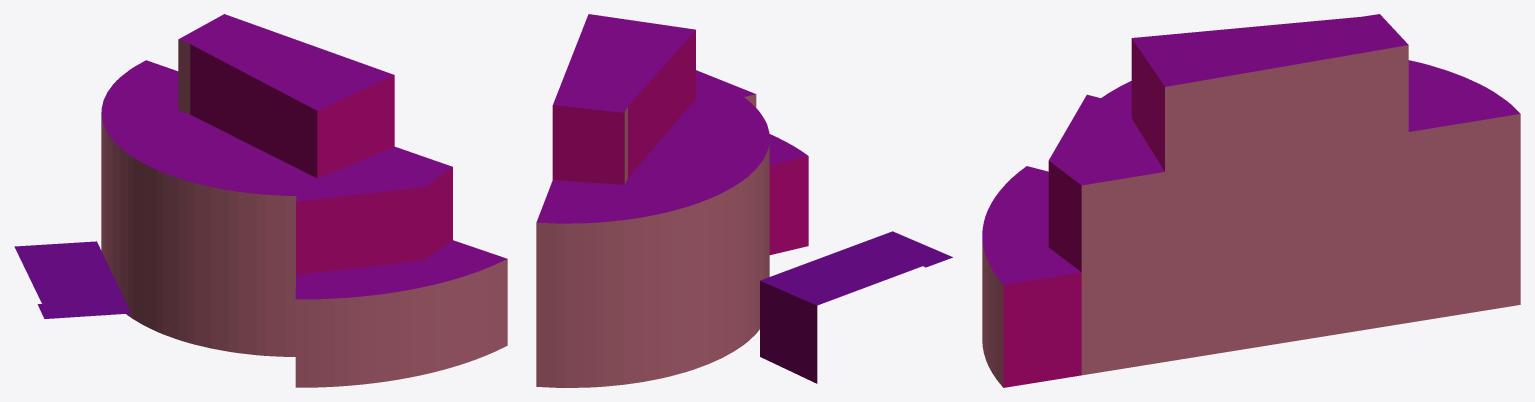
File: buildings_14_10.glb
The picture shows the model from 3 angles, left to right: view 1: azimuth 30°, elevation 25°; view 2: azimuth 150°, elevation 25°; view 3: azimuth 270°, elevation 25°; orthographic projection. The views are drawn at different scales.
Visible parts, largest first — view 1: buildings_14_10; view 2: buildings_14_10; view 3: buildings_14_10.
Part boxes in pixels (left/top/right/bottom): buildings_14_10: left=14, top=14, right=507, bottom=387; buildings_14_10: left=536, top=14, right=952, bottom=387; buildings_14_10: left=982, top=14, right=1520, bottom=387.
Size of the model in its own units: 15.91 by 8.92 by 15.67.
